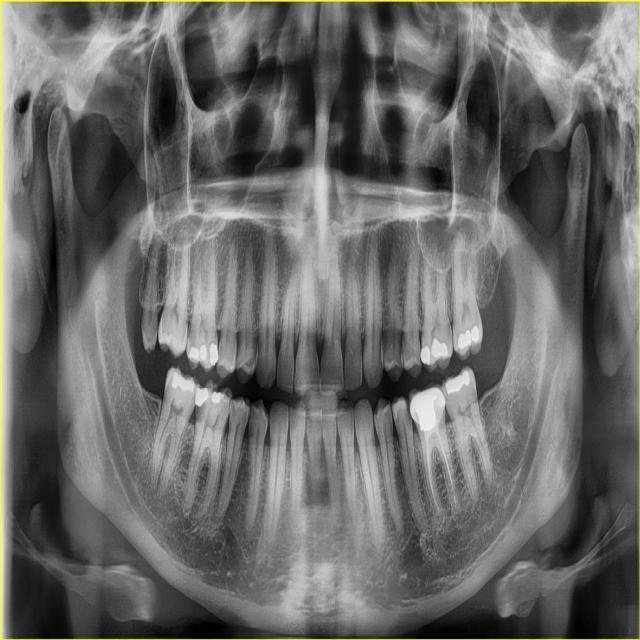Caries: (195, 402, 205, 425), (404, 400, 412, 427), (241, 407, 249, 432), (249, 407, 256, 435), (187, 323, 193, 347), (230, 403, 236, 424), (445, 394, 449, 404)
Filling: (409, 383, 445, 429), (414, 394, 436, 430), (445, 370, 470, 394), (458, 325, 480, 349), (171, 372, 194, 391), (431, 339, 448, 359), (195, 388, 209, 406), (210, 343, 219, 366), (211, 390, 225, 404), (420, 346, 430, 365), (189, 345, 199, 360), (199, 345, 207, 362)
Root Canal Treatment: (438, 429, 456, 513), (426, 436, 437, 510)
